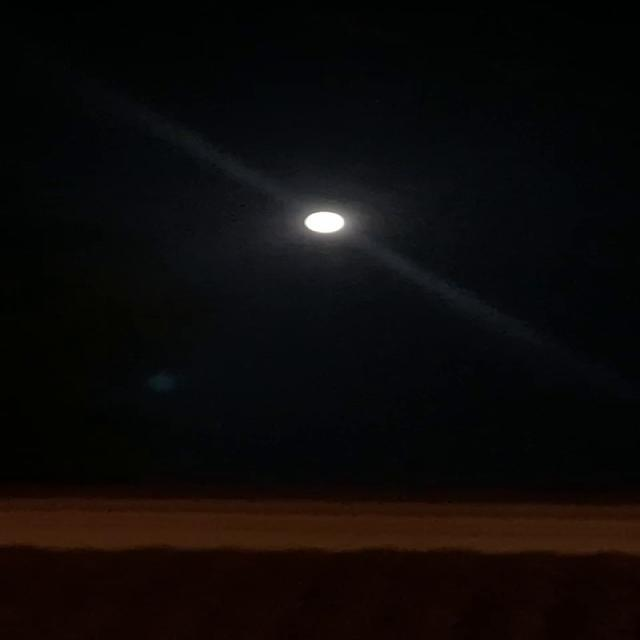moon: (290, 200, 360, 240)
